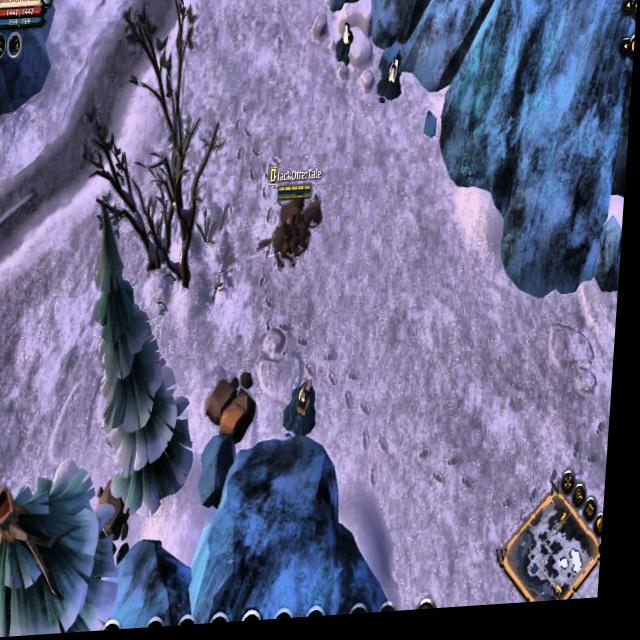copperore: (289, 378, 327, 447), (377, 58, 409, 109), (330, 24, 360, 74)
limestone: (207, 374, 268, 448)
